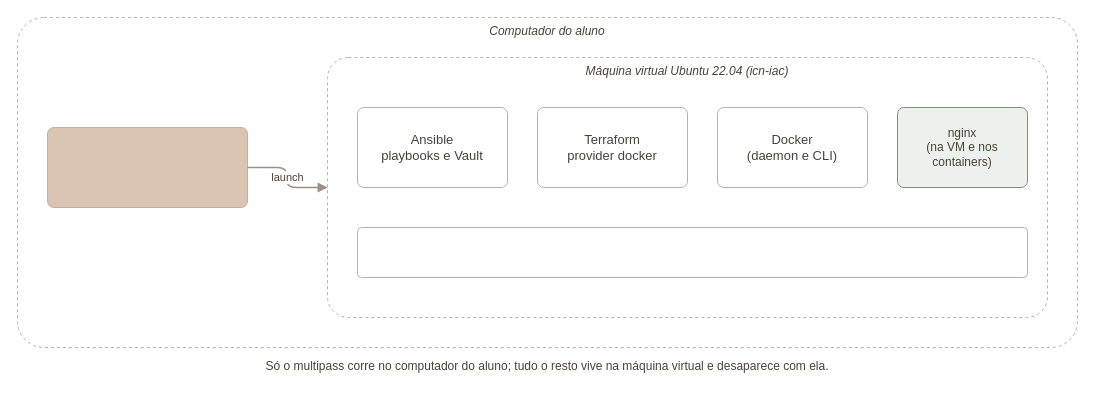
The diagram is 1095 pixels wide and 398 high, and some of its shapes have lost their labels. Each missing label, with the box of its shape:
Ficheiros do laboratório em ~/icn-aula07: (356, 226, 1028, 278)
multipass (cria e apaga a VM): (46, 126, 248, 208)
